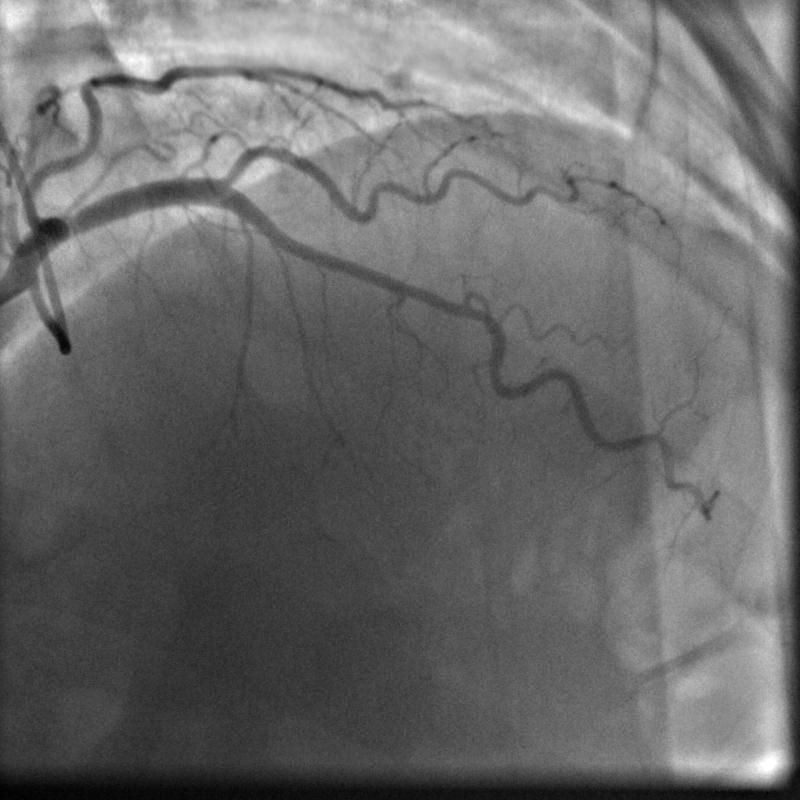Stenosis: (417, 286, 497, 331)
